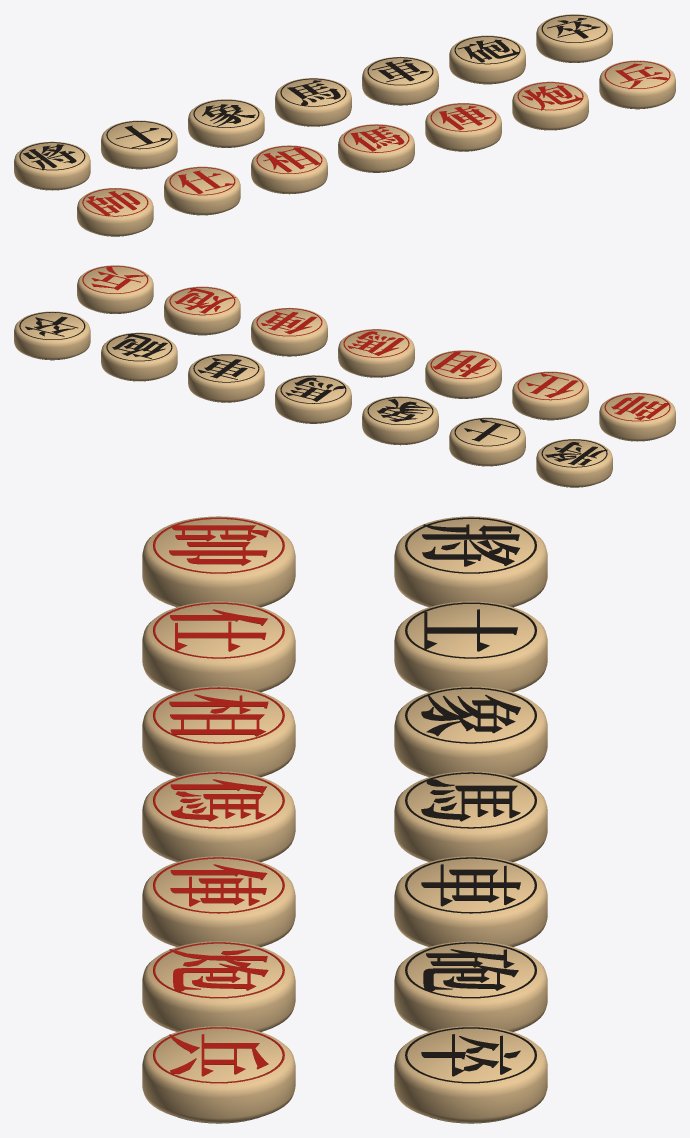
File: collection.glb
3 renders of one model, top to bottom at view 1: azimuth 30°, elevation 25°; view 2: azimuth 150°, elevation 25°; view 3: azimuth 270°, elevation 25°, orthographic. The views are drawn at different scales.
Parts seen in each view (by area): view 1: Turned boxwood disc.008, Turned boxwood disc.013, Turned boxwood disc.006, Turned boxwood disc.001, Turned boxwood disc.011, Turned boxwood disc.010, Turned boxwood disc.009, Turned boxwood disc.004, Turned boxwood disc.007, Turned boxwood disc.003, Turned boxwood disc.002, Turned boxwood disc.005 (+15 smaller); view 2: Turned boxwood disc.008, Turned boxwood disc.013, Turned boxwood disc.006, Turned boxwood disc.001, Turned boxwood disc.011, Turned boxwood disc.009, Turned boxwood disc.010, Turned boxwood disc.003, Turned boxwood disc.007, Turned boxwood disc.004, Turned boxwood disc.002, Turned boxwood disc.012 (+15 smaller); view 3: Turned boxwood disc.013, Turned boxwood disc.006, Turned boxwood disc.008, Turned boxwood disc.001, Turned boxwood disc.011, Turned boxwood disc.010, Turned boxwood disc.009, Turned boxwood disc.007, Turned boxwood disc.004, Turned boxwood disc.002, Turned boxwood disc.003, Turned boxwood disc.012 (+16 smaller).
Boxes of the visible parts, x1=… form: Turned boxwood disc.008: x1=101, y1=120, x2=177, y2=168; Turned boxwood disc.013: x1=536, y1=14, x2=612, y2=62; Turned boxwood disc.006: x1=599, y1=60, x2=675, y2=108; Turned boxwood disc.001: x1=164, y1=166, x2=240, y2=215; Turned boxwood disc.011: x1=362, y1=56, x2=438, y2=105; Turned boxwood disc.010: x1=275, y1=78, x2=351, y2=126; Turned boxwood disc.009: x1=188, y1=99, x2=264, y2=147; Turned boxwood disc.004: x1=425, y1=103, x2=501, y2=151; Turned boxwood disc.007: x1=14, y1=141, x2=90, y2=190; Turned boxwood disc.003: x1=338, y1=124, x2=414, y2=172; Turned boxwood disc.002: x1=251, y1=145, x2=327, y2=193; Turned boxwood disc.005: x1=512, y1=81, x2=588, y2=130; Turned boxwood disc.008: x1=449, y1=417, x2=525, y2=466; Turned boxwood disc.013: x1=14, y1=311, x2=90, y2=359; Turned boxwood disc.006: x1=77, y1=265, x2=153, y2=313; Turned boxwood disc.001: x1=512, y1=371, x2=588, y2=419; Turned boxwood disc.011: x1=188, y1=354, x2=264, y2=402; Turned boxwood disc.009: x1=362, y1=396, x2=438, y2=444; Turned boxwood disc.010: x1=275, y1=375, x2=351, y2=423; Turned boxwood disc.003: x1=338, y1=329, x2=414, y2=377; Turned boxwood disc.007: x1=536, y1=439, x2=612, y2=487; Turned boxwood disc.004: x1=251, y1=307, x2=327, y2=356; Turned boxwood disc.002: x1=425, y1=350, x2=501, y2=398; Turned boxwood disc.012: x1=101, y1=332, x2=177, y2=381; Turned boxwood disc.013: x1=394, y1=1026, x2=547, y2=1123; Turned boxwood disc.006: x1=142, y1=1026, x2=295, y2=1123; Turned boxwood disc.008: x1=394, y1=601, x2=547, y2=692; Turned boxwood disc.001: x1=142, y1=601, x2=295, y2=692; Turned boxwood disc.011: x1=394, y1=856, x2=547, y2=946; Turned boxwood disc.010: x1=394, y1=771, x2=547, y2=861; Turned boxwood disc.009: x1=394, y1=686, x2=547, y2=776; Turned boxwood disc.007: x1=394, y1=516, x2=547, y2=607; Turned boxwood disc.004: x1=142, y1=856, x2=295, y2=946; Turned boxwood disc.002: x1=142, y1=686, x2=295, y2=776; Turned boxwood disc.003: x1=142, y1=771, x2=295, y2=861; Turned boxwood disc.012: x1=394, y1=941, x2=547, y2=1031.
Size of the model in its own units: 0.372 by 0.0122 by 0.111.
